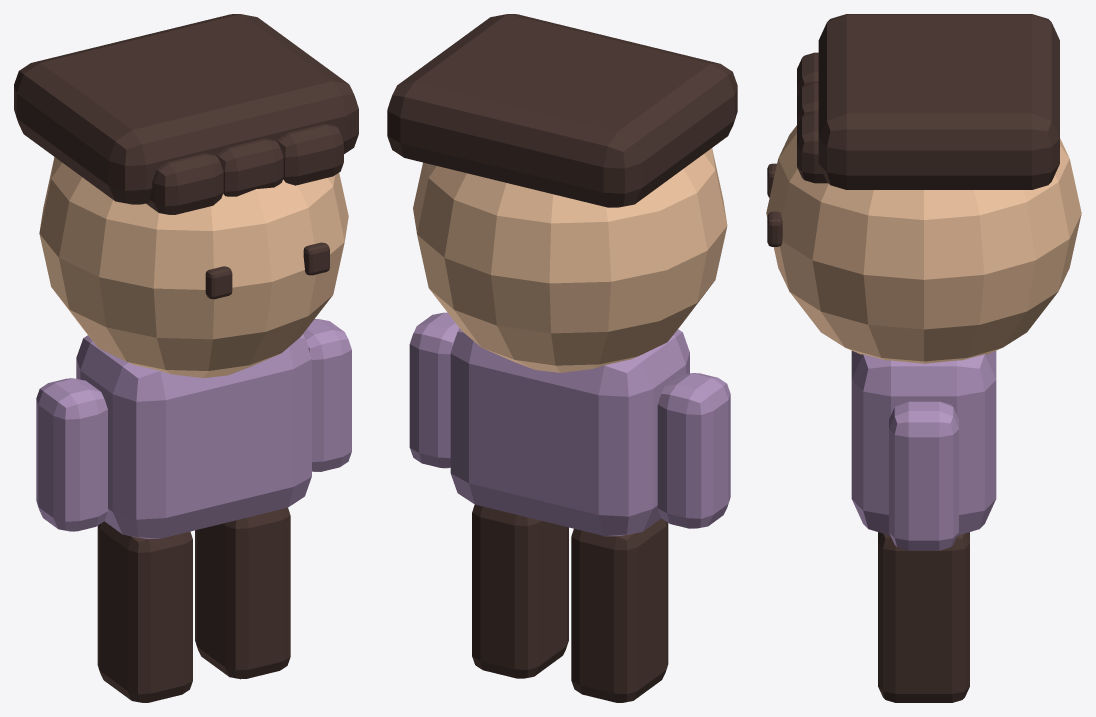
Rendered from kar_warga_putri.fbx.
The picture shows the model from 3 angles, left to right: view 1: azimuth 30°, elevation 25°; view 2: azimuth 150°, elevation 25°; view 3: azimuth 270°, elevation 25°; orthographic projection.
Visible parts, largest first — view 1: kar_warga_putri; view 2: kar_warga_putri; view 3: kar_warga_putri.
Part boxes in pixels (bbox=[...]): kar_warga_putri: bbox=[14, 14, 358, 702]; kar_warga_putri: bbox=[387, 14, 737, 702]; kar_warga_putri: bbox=[766, 14, 1081, 702].
Size of the model in its own units: 79 by 152 by 72.
1 material, 1 textured.
